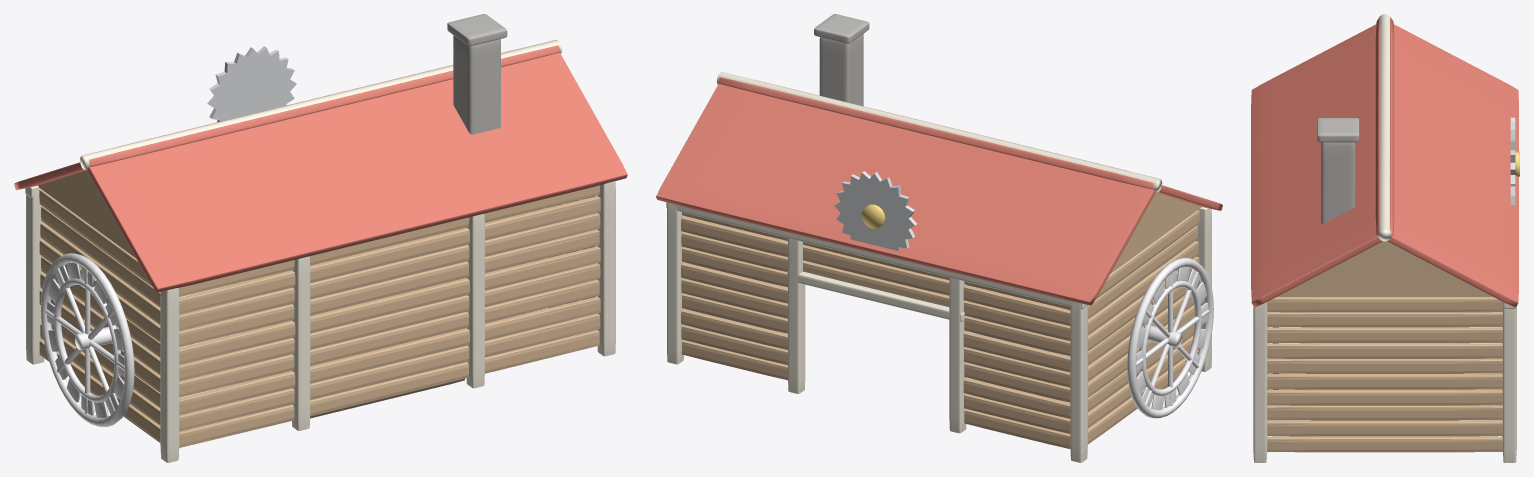
Rendered from LogJamMill.glb.
3 views of the same model, side by side, from view 1: azimuth 30°, elevation 25°; view 2: azimuth 150°, elevation 25°; view 3: azimuth 270°, elevation 25° (orthographic). The views are drawn at different scales.
Parts seen in each view (by area): view 1: Walls, Roof, Trim, Wheel, Chimney, Saw; view 2: Roof, Walls, Trim, Wheel, Saw, Chimney; view 3: Roof, Walls, Trim, Chimney, Saw.
Boxes of the visible parts, box(x1,y1,x2,y2) form: Walls: box(38, 170, 600, 447); Roof: box(14, 45, 627, 292); Trim: box(25, 40, 615, 462); Wheel: box(41, 253, 134, 426); Chimney: box(447, 14, 507, 134); Saw: box(207, 46, 296, 122); Roof: box(656, 77, 1222, 305); Walls: box(681, 192, 1201, 449); Trim: box(666, 72, 1211, 462); Wheel: box(1127, 258, 1213, 418); Saw: box(834, 171, 916, 250); Chimney: box(814, 14, 869, 106); Roof: box(1251, 17, 1518, 307); Walls: box(1267, 241, 1503, 452); Trim: box(1253, 14, 1516, 462); Chimney: box(1317, 118, 1359, 223); Saw: box(1510, 117, 1515, 204).
Size of the model in its own units: 33.5 by 20.9 by 17.25.
